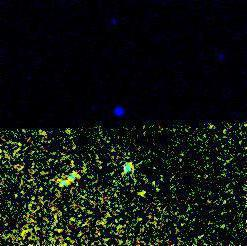star: (125, 182, 155, 212)
